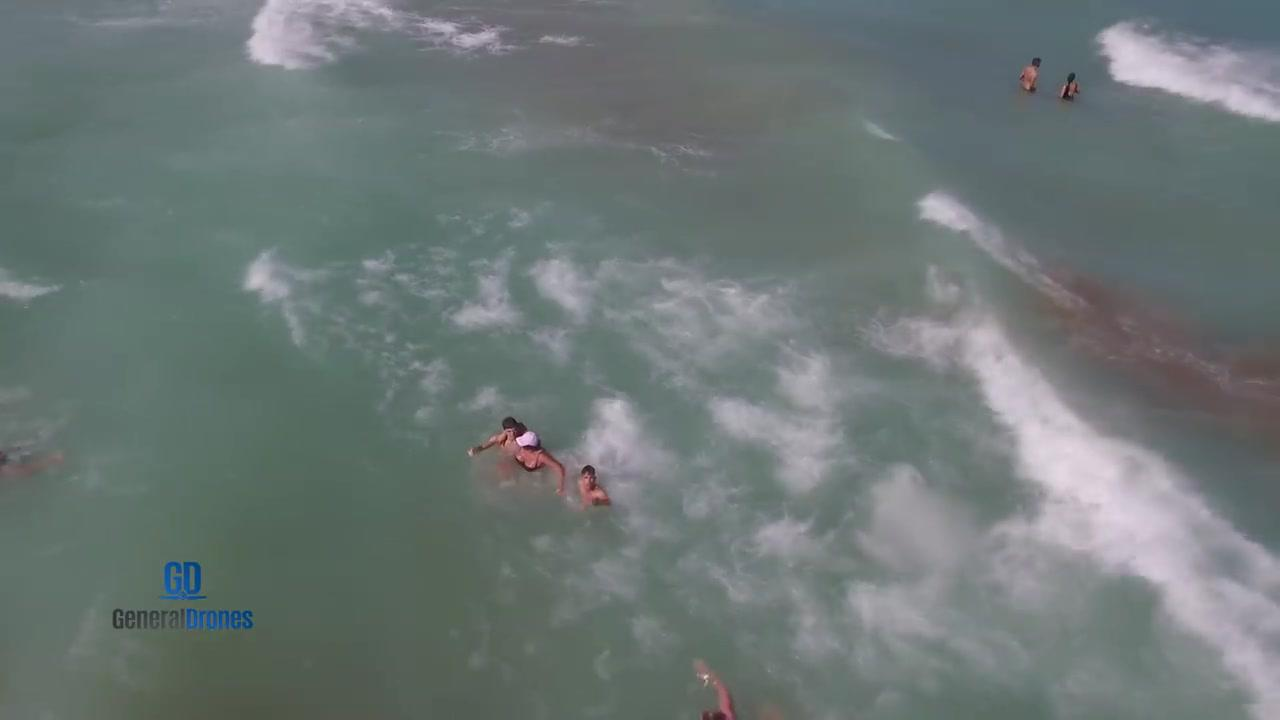swimmer: (673, 653, 744, 720), (517, 428, 577, 502), (451, 406, 520, 467), (571, 457, 621, 510)
